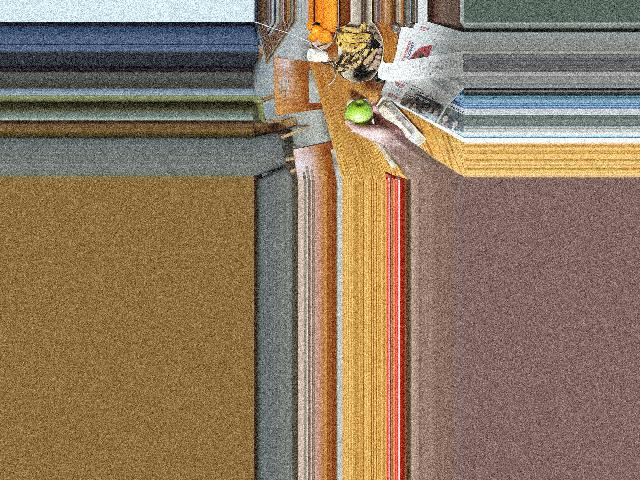apple: (341, 99, 376, 132)
